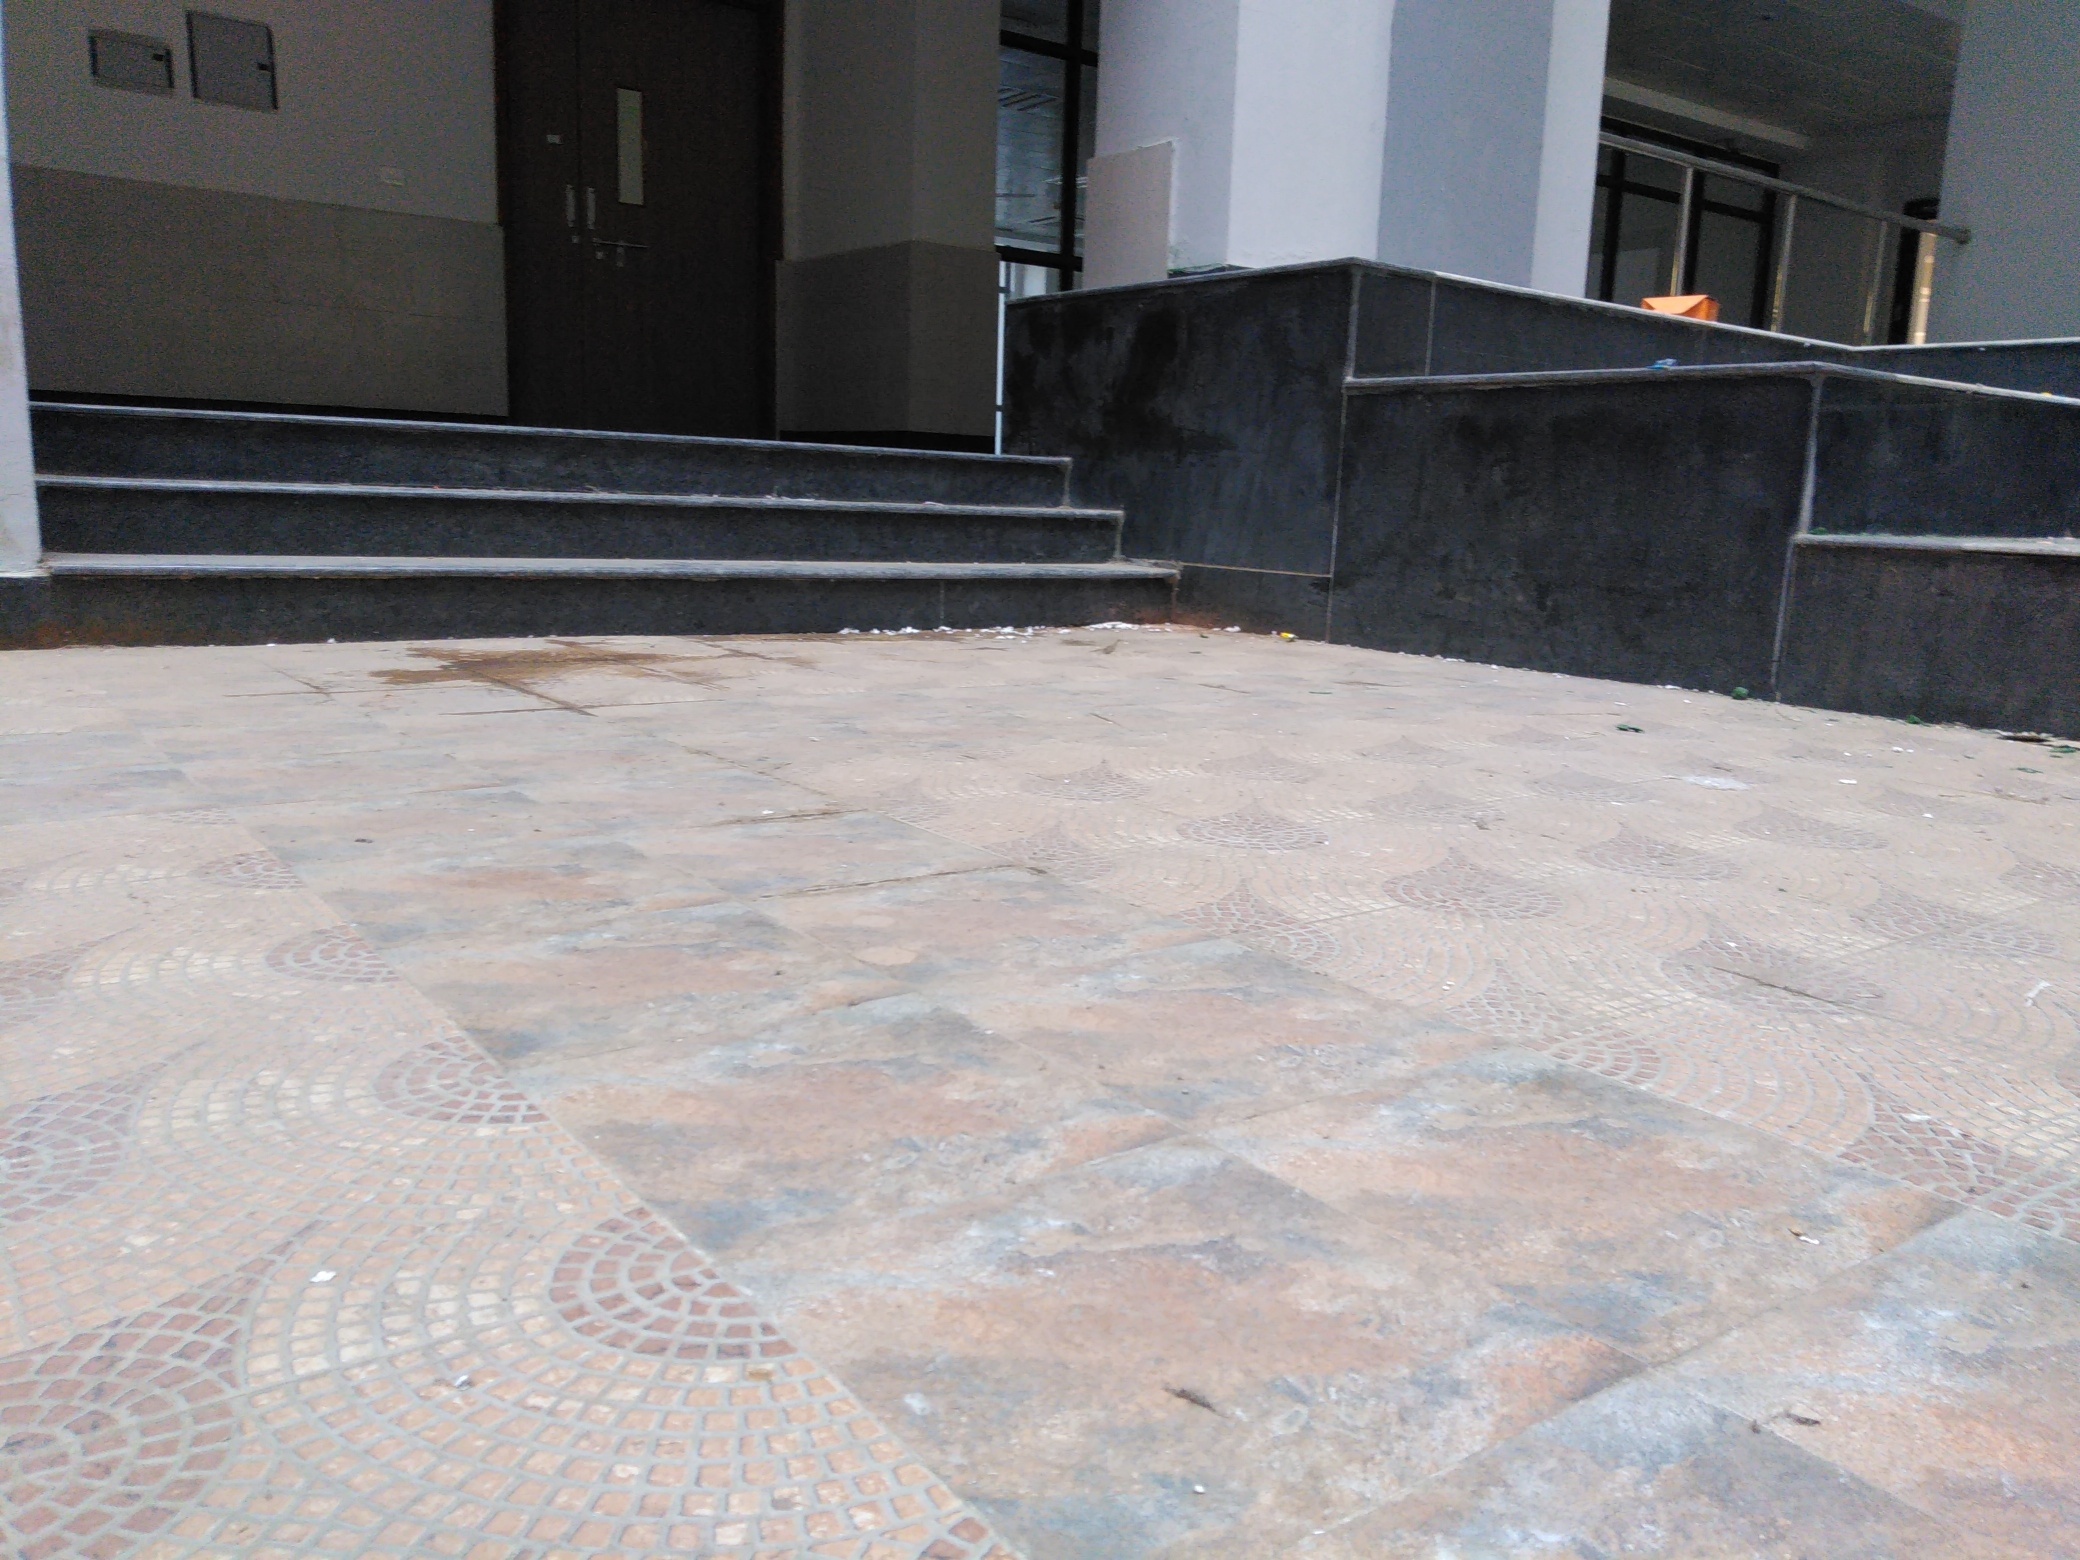stairs_up: (38, 400, 1182, 629)
